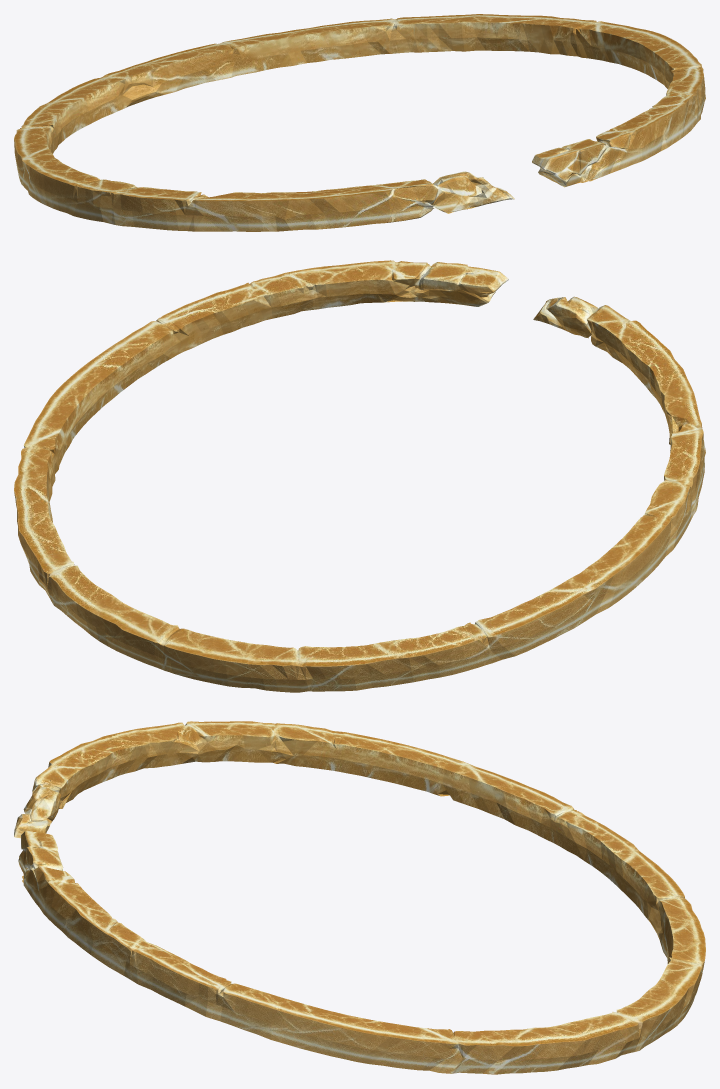
Rendered from ewm_brokenhalo.glb.
3 renders of one model, top to bottom at view 1: azimuth 30°, elevation 25°; view 2: azimuth 150°, elevation 25°; view 3: azimuth 270°, elevation 25°, orthographic.
Visible parts, largest first — view 1: ewm_brokenhalo; view 2: ewm_brokenhalo; view 3: ewm_brokenhalo.
Part boxes in pixels (x1,y1,x2,y2): ewm_brokenhalo: [14, 14, 705, 231]; ewm_brokenhalo: [14, 260, 705, 692]; ewm_brokenhalo: [14, 721, 705, 1074].
Bounding box in the file's own units: 0.24 × 0.0604 × 0.2357.
1 material, 1 textured.
